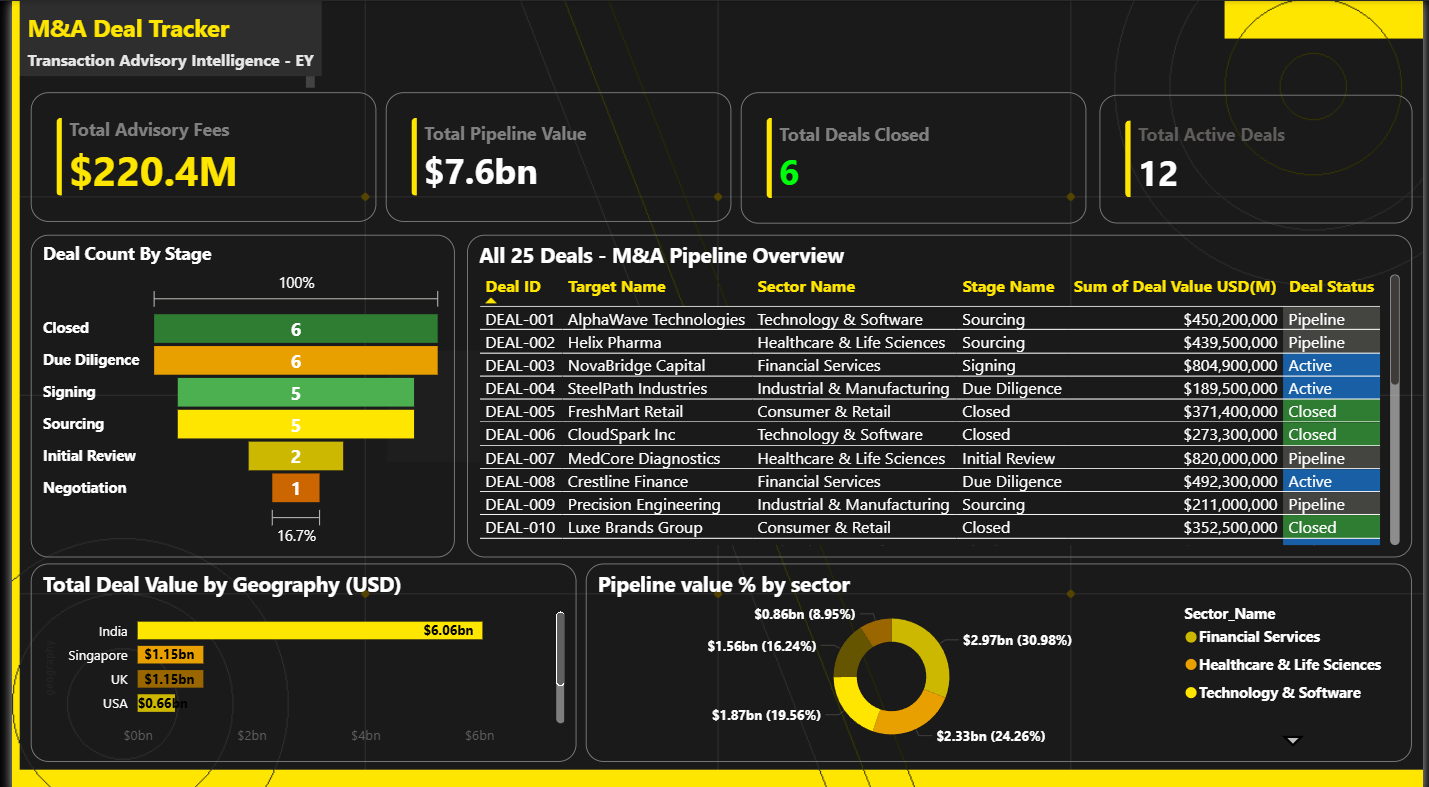

The page's visual inventory and layout, read from the dashboard file:
{"tool":"powerbi","page":{"name":"Pipeline Overview","canvas":[1280,720],"ordinal":0},"visuals":[{"type":"cardVisual","fields":{"Data":["Pipeline KPI Measures.Total Pipeline Value"]},"box":[337.8,24.4,326.8,100],"z":0},{"type":"cardVisual","fields":{"Data":["Pipeline KPI Measures.Total Active Deals"]},"box":[1000,31.7,280.5,103.7],"z":1},{"type":"cardVisual","fields":{"Data":["Pipeline KPI Measures.Total Advisory Fees"]},"box":[8.5,76.8,279.3,117.1],"z":2},{"type":"cardVisual","fields":{"Data":["Pipeline KPI Measures.Total Deals Closed"]},"box":[698.8,31.7,280.5,103.7],"z":3},{"type":"textbox","title":"M&A Deal Tracker","box":[8.5,8.5,270.7,74.4],"z":4},{"type":"funnel","fields":{"Category":["dim_stage.stage_name"],"Y":["CountNonNull(dim_deal.deal_id)"]},"box":[991.5,161,279.3,150],"z":5},{"type":"donutChart","fields":{"Category":["dim_sector.sector_name"],"Y":["Sum(dim_deal.deal_value_usd_)"]},"box":[680.5,153.7,298.8,186.6],"z":6},{"type":"clusteredBarChart","fields":{"Category":["dim_deal.geography"],"Y":["Sum(dim_deal.deal_value_usd_)"]},"box":[385.4,153.7,279.3,164.6],"z":7},{"type":"tableEx","fields":{"Values":["dim_deal.deal_id","dim_deal.target_name","dim_sector.sector_name","dim_stage.stage_name","Sum(dim_deal.deal_value_usd_)","dim_deal.deal_status"]},"box":[13.4,340.2,745.1,254.9],"z":8}]}

Visuals, with their boxes in screenshot pixels (x1, y1, x2, y2), scaled from the page's 1280x720 canvas onto the 1429x787 screenshot:
cardVisual - Pipeline KPI Measures.Total Pipeline Value: pyautogui.locateOnScreen(377, 27, 742, 136)
cardVisual - Pipeline KPI Measures.Total Active Deals: pyautogui.locateOnScreen(1116, 35, 1428, 148)
cardVisual - Pipeline KPI Measures.Total Advisory Fees: pyautogui.locateOnScreen(9, 84, 321, 212)
cardVisual - Pipeline KPI Measures.Total Deals Closed: pyautogui.locateOnScreen(780, 35, 1093, 148)
"M&A Deal Tracker" textbox: pyautogui.locateOnScreen(9, 9, 312, 91)
funnel - dim_stage.stage_name x CountNonNull(dim_deal.deal_id): pyautogui.locateOnScreen(1107, 176, 1419, 340)
donutChart - dim_sector.sector_name x Sum(dim_deal.deal_value_usd_): pyautogui.locateOnScreen(760, 168, 1093, 372)
clusteredBarChart - dim_deal.geography x Sum(dim_deal.deal_value_usd_): pyautogui.locateOnScreen(430, 168, 742, 348)
tableEx - dim_deal.deal_id x dim_deal.target_name: pyautogui.locateOnScreen(15, 372, 847, 650)
